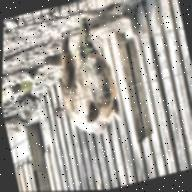boar: (34, 13, 129, 146)
